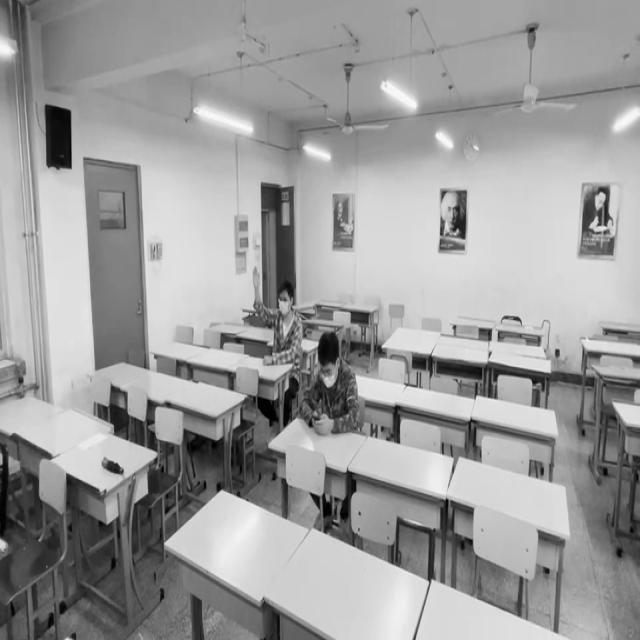phone: (301, 331, 360, 433)
study: (251, 264, 302, 363)
